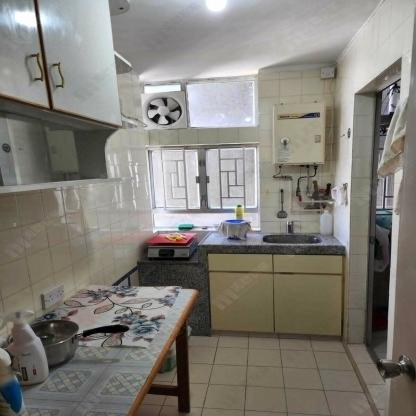Cupboard: (0, 1, 120, 125), (206, 254, 349, 335)
Exhaust Fan: (140, 90, 190, 131)
Faucet: (280, 219, 298, 234)
Sink: (265, 235, 328, 244)
Stove: (147, 237, 196, 258)
